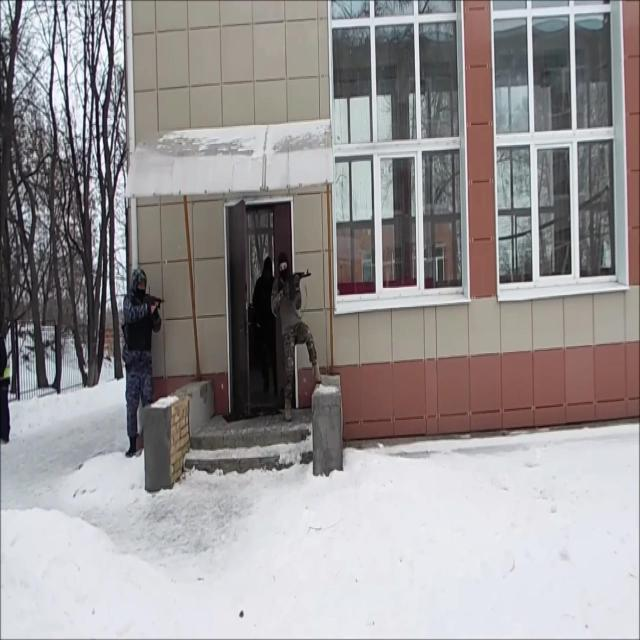pistol: (131, 291, 166, 318), (278, 268, 312, 294)
